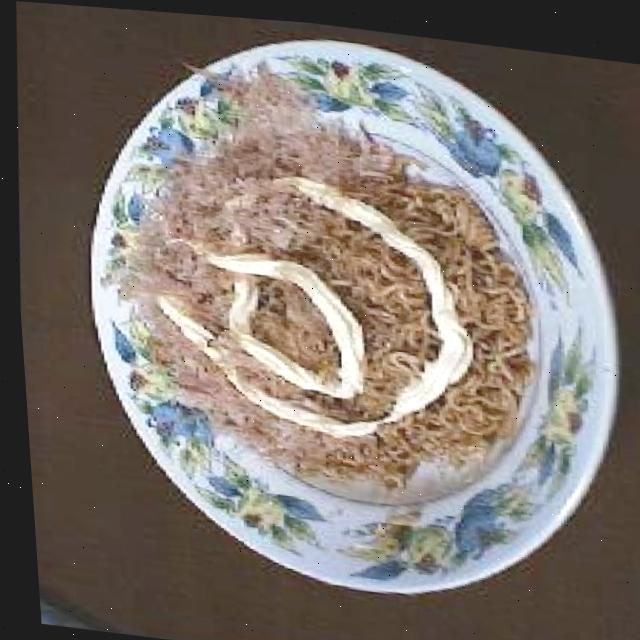面条主食: (58, 3, 640, 623)
